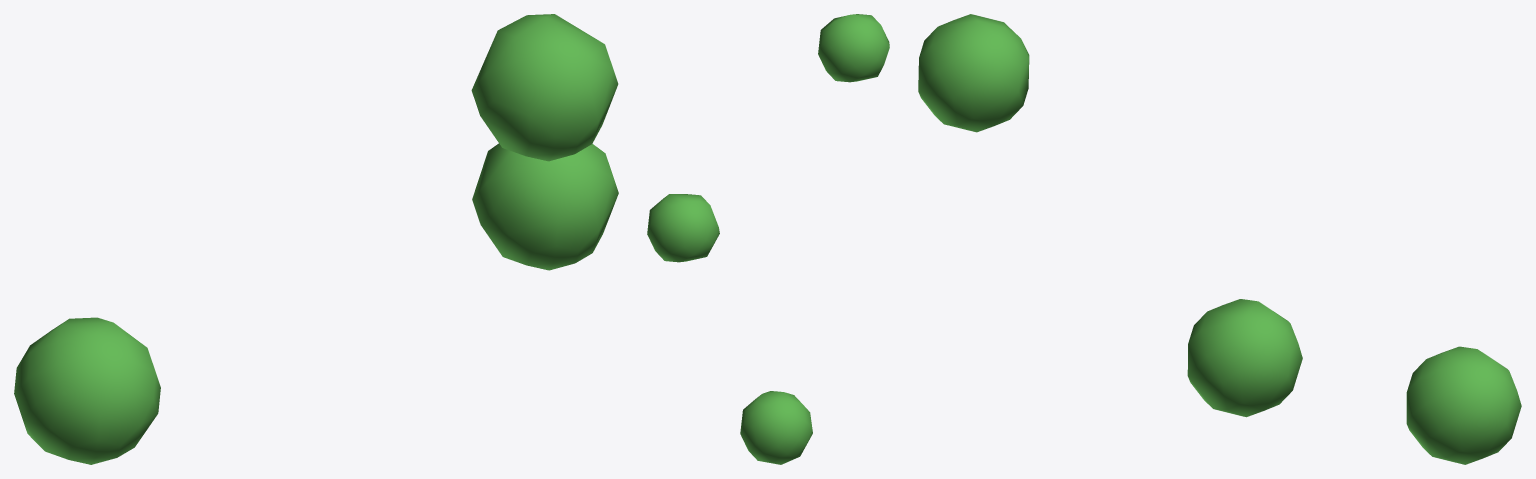
File: linfatico-prevesical-nodes.glb
The picture shows the model from 3 angles, left to right: view 1: azimuth 30°, elevation 25°; view 2: azimuth 150°, elevation 25°; view 3: azimuth 270°, elevation 25°; orthographic projection. The views are drawn at different scales.
Parts seen in each view (by area): view 1: Prevesical nodes; view 2: Prevesical nodes; view 3: Prevesical nodes.
Boxes of the visible parts, x1,y1,x2,y2 form: Prevesical nodes: (14, 14, 618, 464); Prevesical nodes: (647, 14, 889, 464); Prevesical nodes: (918, 14, 1521, 464).
Bounding box in the file's own units: 0.00901 × 0.012 × 0.0132.
